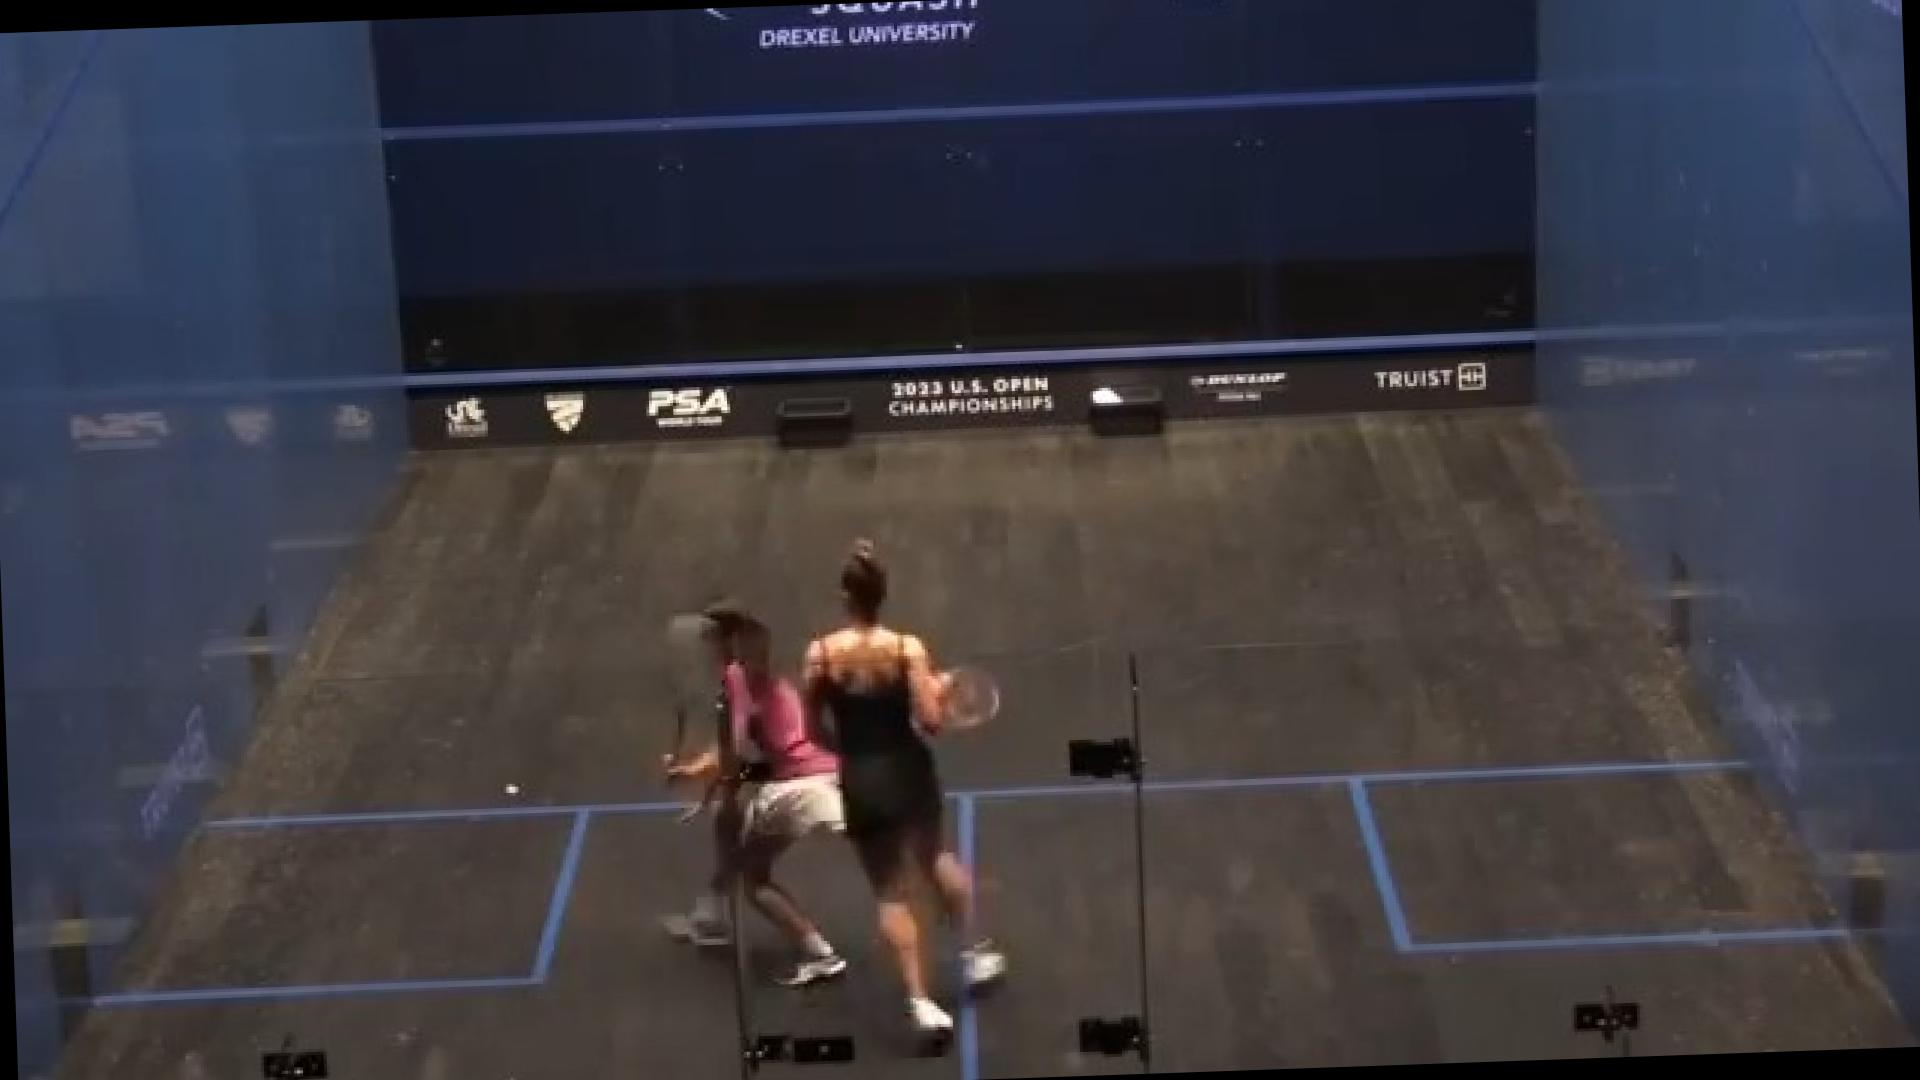Squash-Ball: (496, 769, 527, 812)
